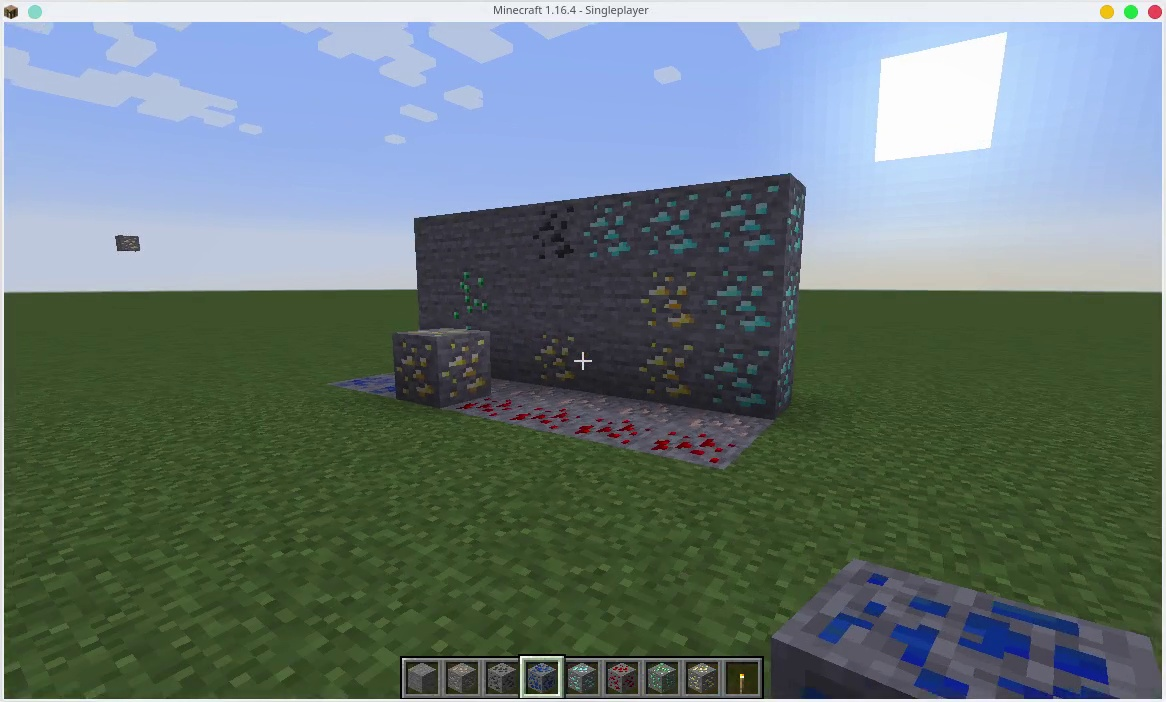gold: (395, 329, 486, 402), (635, 336, 696, 403), (639, 266, 696, 331), (532, 337, 580, 388), (685, 661, 718, 690)
